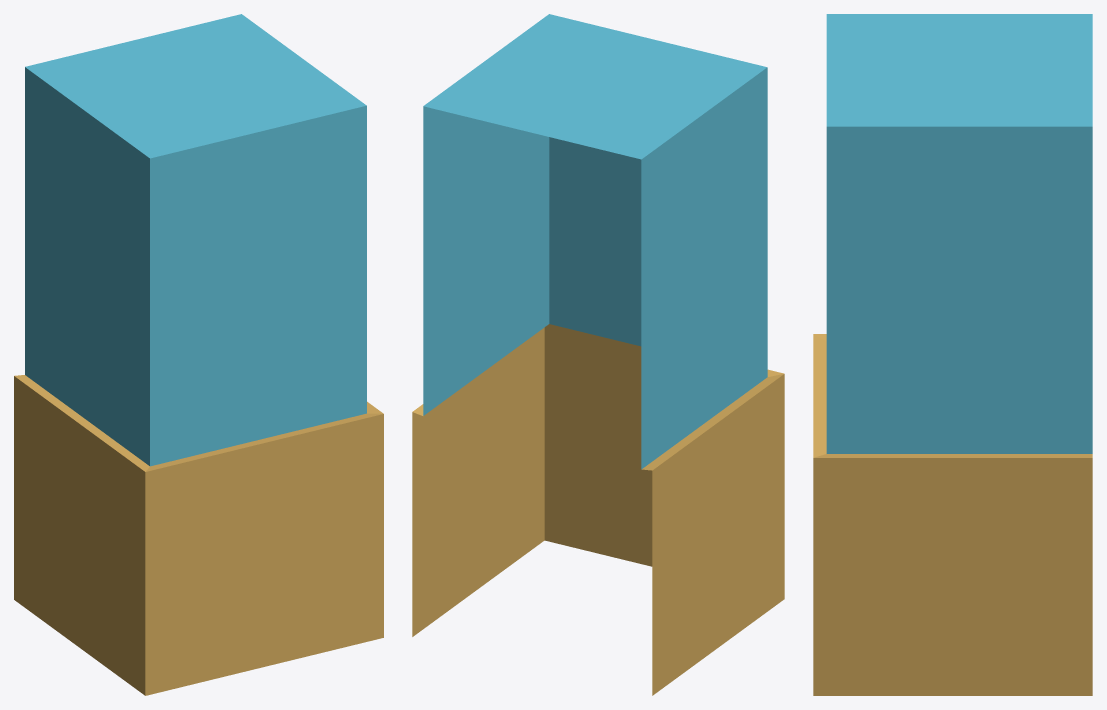
Rendered from SmallTH_Bottom_Outer.fbx.
The picture shows the model from 3 angles, left to right: view 1: azimuth 30°, elevation 25°; view 2: azimuth 150°, elevation 25°; view 3: azimuth 270°, elevation 25°; orthographic projection. The views are drawn at different scales.
Parts seen in each view (by area): view 1: SmallTH_Bottom_Outer; view 2: SmallTH_Bottom_Outer; view 3: SmallTH_Bottom_Outer.
Part boxes in pixels (x1=…): SmallTH_Bottom_Outer: x1=14, y1=14, x2=383, y2=695; SmallTH_Bottom_Outer: x1=412, y1=14, x2=784, y2=695; SmallTH_Bottom_Outer: x1=813, y1=14, x2=1092, y2=695.
Bounding box in the file's own units: 2.2 × 4.67 × 2.1.
